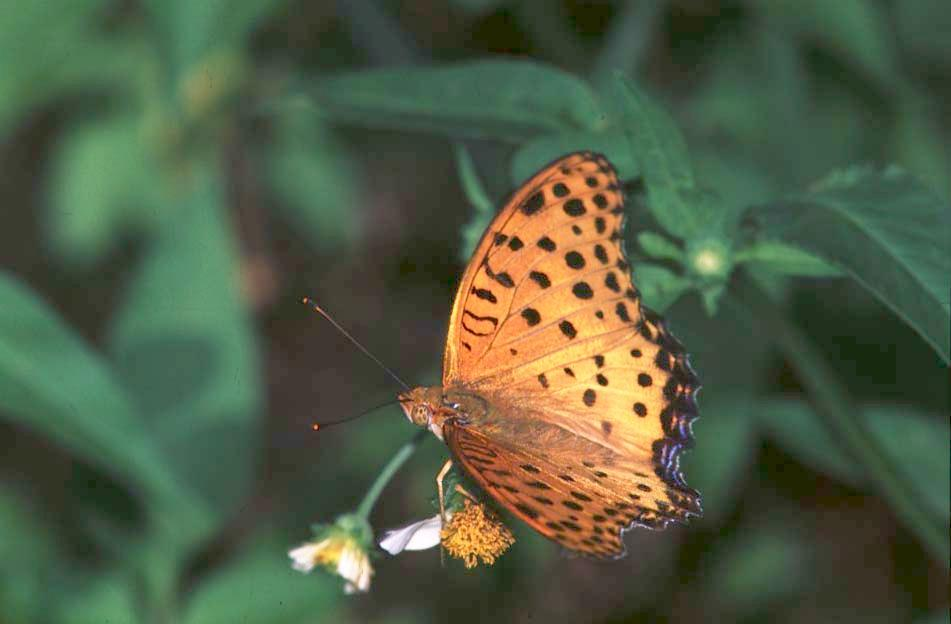Argyreus hyperbius: (292, 145, 710, 569)
butterfly: (294, 147, 712, 571)
